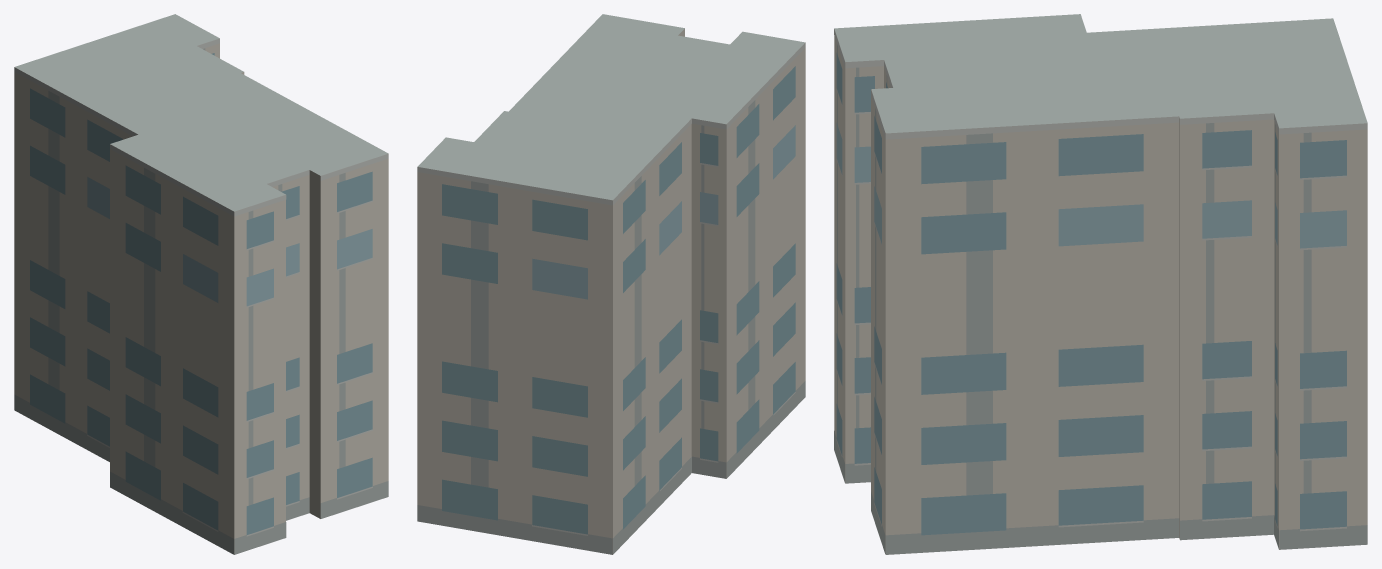
Rendered from survey-upis-32621024.glb.
3 renders of one model, left to right at view 1: azimuth 30°, elevation 25°; view 2: azimuth 150°, elevation 25°; view 3: azimuth 270°, elevation 25°, orthographic. The views are drawn at different scales.
Visible parts, largest first — view 1: survey-upis-32621024.tmp; view 2: survey-upis-32621024.tmp; view 3: survey-upis-32621024.tmp.
Part boxes in pixels (x1=…): survey-upis-32621024.tmp: x1=14, y1=14, x2=388, y2=554; survey-upis-32621024.tmp: x1=417, y1=14, x2=805, y2=554; survey-upis-32621024.tmp: x1=834, y1=14, x2=1367, y2=554.
Bounding box in the file's own units: 10.15 × 16.68 × 19.15.
